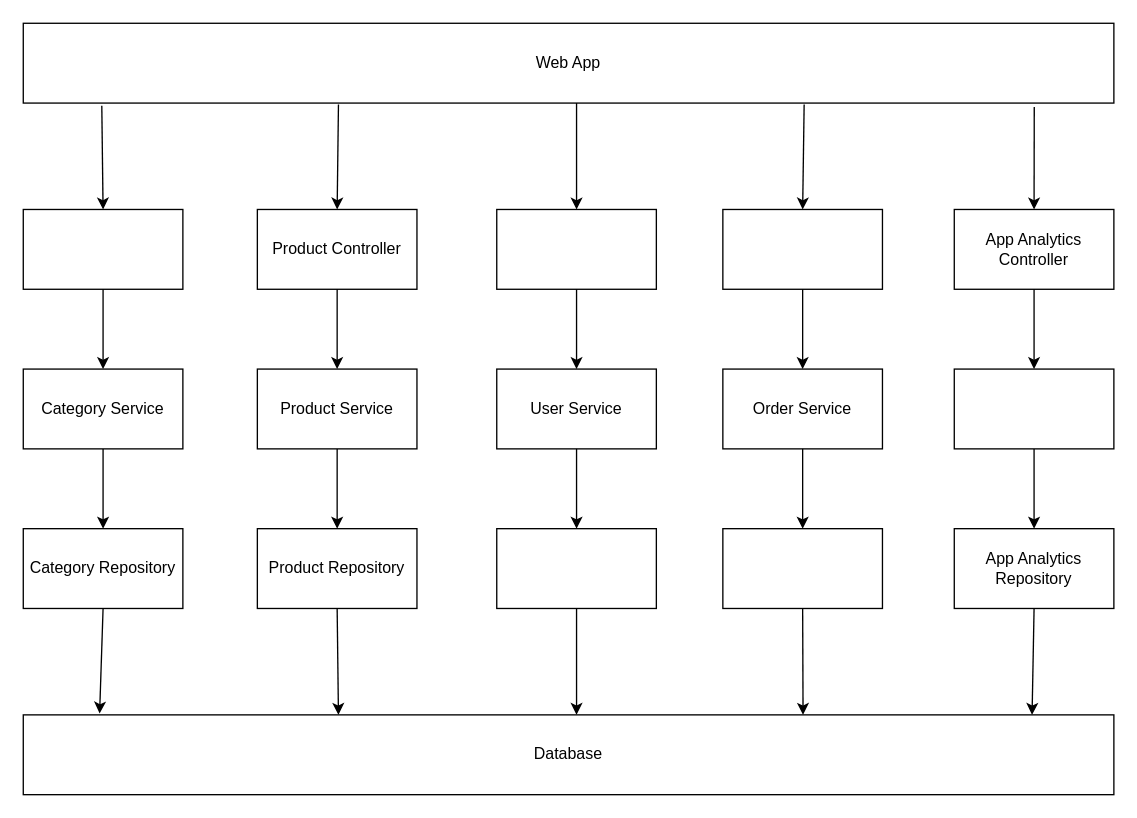
This 1137x818 diagram has some shape labels left out. Each missing label, with the box of its shape:
App Analytics Service: (953, 368, 1114, 449)
Category Controller: (22, 208, 183, 289)
Order Controller: (722, 208, 882, 289)
Order Repository: (722, 527, 882, 608)
User Controller: (495, 208, 656, 289)
User Repository: (495, 527, 656, 608)
